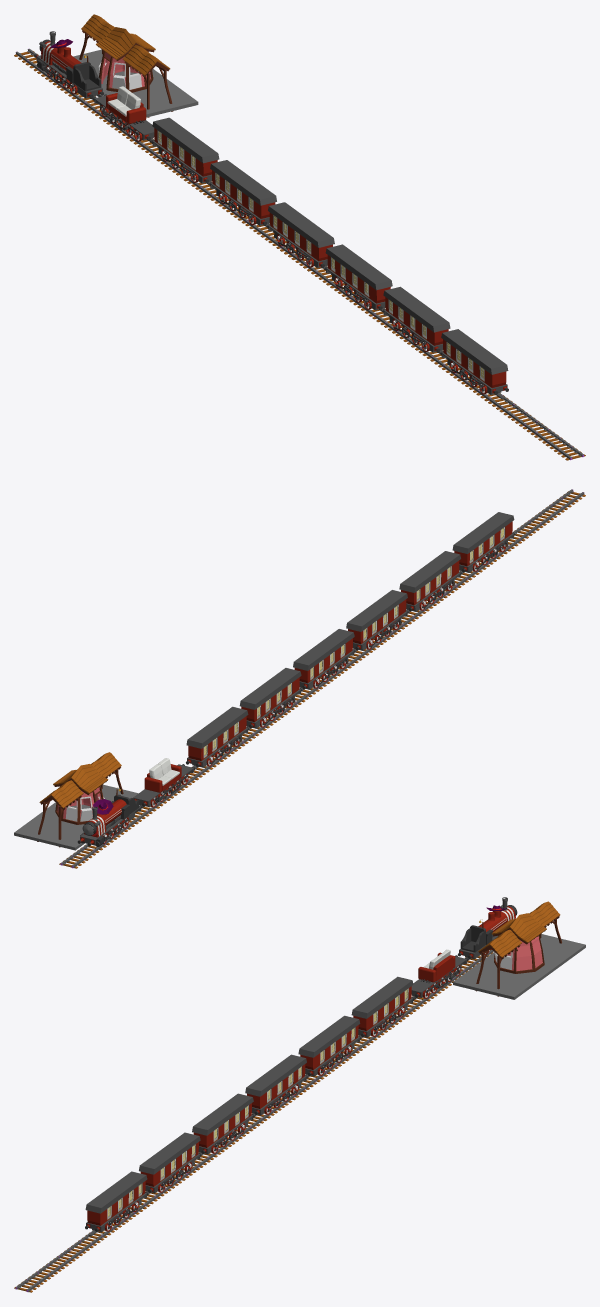
Rendered from titi_station.fbx.
The picture shows the model from 3 angles, top to bottom: view 1: azimuth 30°, elevation 25°; view 2: azimuth 150°, elevation 25°; view 3: azimuth 330°, elevation 25°; orthographic projection. The views are drawn at different scales.
Visible parts, largest first — view 1: Circle.007, Cube, Plane, Cylinder, Plane.001, Plane.002, Circle, Cube.004; view 2: Circle.007, Cube, Plane, Plane.001, Circle, Cylinder, Plane.002; view 3: Circle.007, Cube, Plane, Cylinder, Plane.001, Plane.002, Circle, Cube.009, Cube.004.
Part boxes in pixels (<box>): Circle.007: <box>151,117,508,399</box>; Cube: <box>14,48,585,460</box>; Plane: <box>73,49,198,117</box>; Cylinder: <box>98,51,153,92</box>; Plane.001: <box>81,14,170,75</box>; Plane.002: <box>96,27,155,59</box>; Circle: <box>36,39,102,100</box>; Cube.004: <box>73,62,101,91</box>; Circle.007: <box>186,512,514,770</box>; Cube: <box>59,489,585,868</box>; Plane: <box>14,784,138,850</box>; Plane.001: <box>39,752,121,808</box>; Circle: <box>80,799,140,845</box>; Cylinder: <box>55,786,104,824</box>; Plane.002: <box>53,764,108,793</box>; Circle.007: <box>85,976,413,1236</box>; Cube: <box>14,913,526,1292</box>; Plane: <box>453,934,585,999</box>; Cylinder: <box>494,935,544,973</box>; Plane.001: <box>478,901,560,957</box>; Plane.002: <box>491,913,546,943</box>; Circle: <box>459,905,517,961</box>; Cube.009: <box>418,952,455,982</box>; Cube.004: <box>460,925,485,952</box>.
Bounding box in the file's own units: 2069 × 1346 × 22453.
